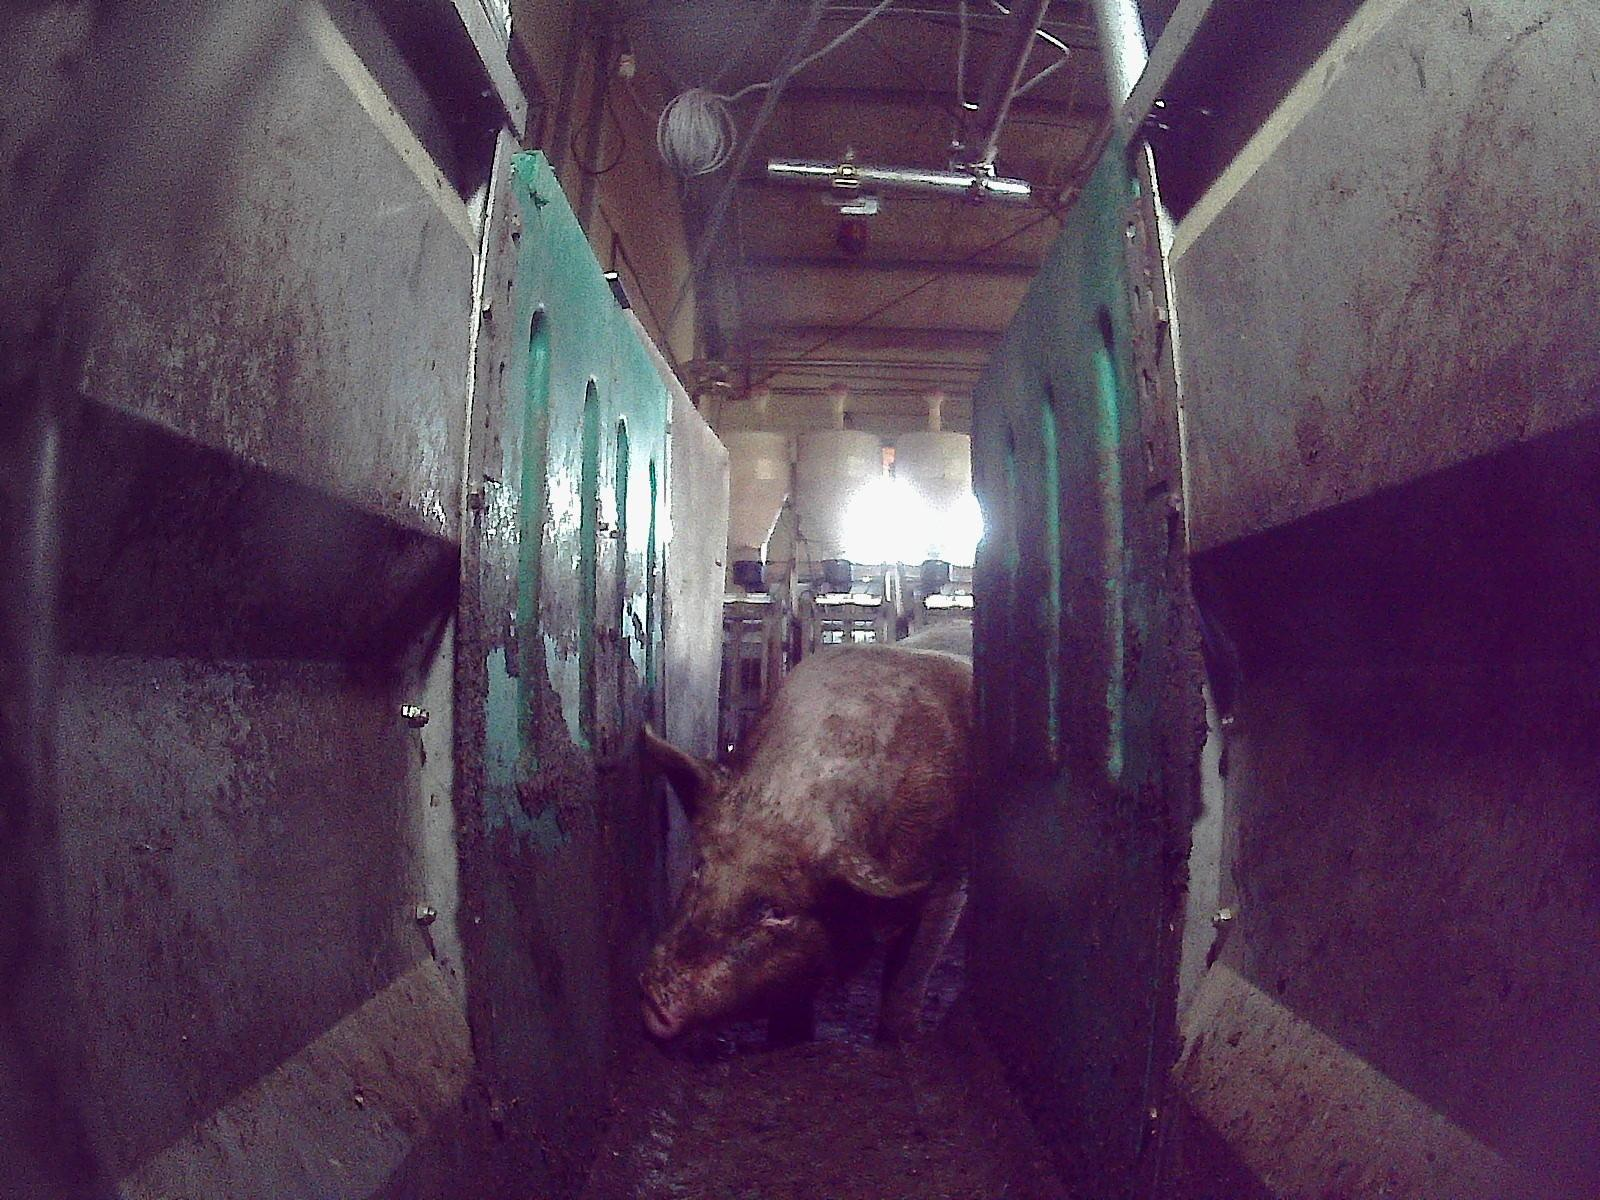Face: (634, 792, 852, 1038)
